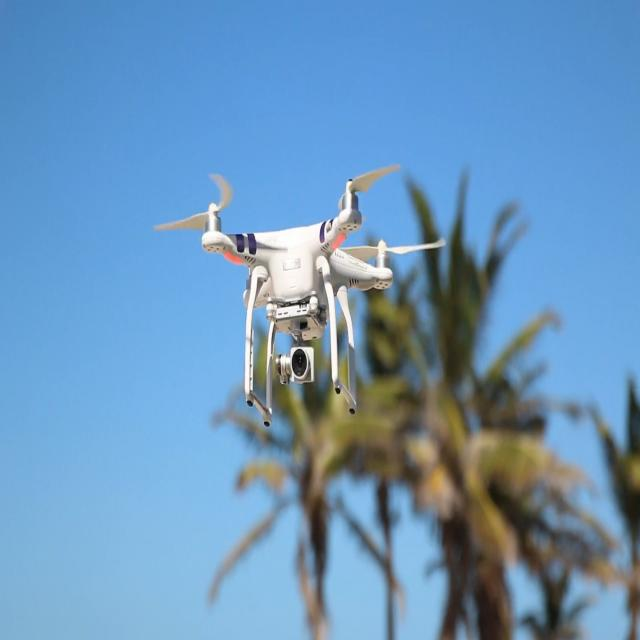Drone: (168, 166, 431, 444)
